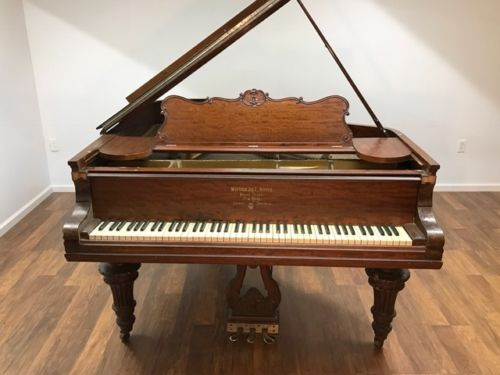GrandPiano: (62, 1, 448, 286)
